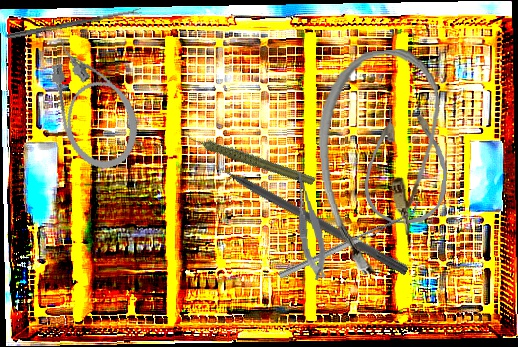Cannula: (311, 46, 455, 277), (37, 25, 149, 178), (364, 106, 449, 225)
Handpiece: (185, 105, 317, 210)
Micro Scissor: (292, 167, 329, 282)
Pusher: (198, 150, 411, 277)
Spatula Surgical: (275, 201, 423, 279)
Surgical Spoon: (6, 7, 143, 41)
